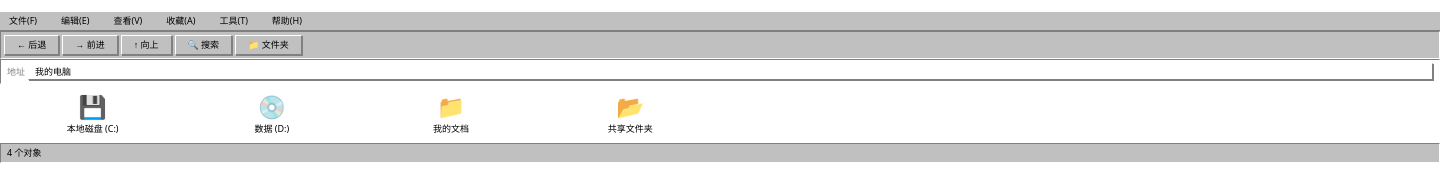
Scenario: MyComputer Component - Paint Files Integration › should navigate back from photos folder
Double-click the text "我的文档": (451,129) [433,123,469,134]
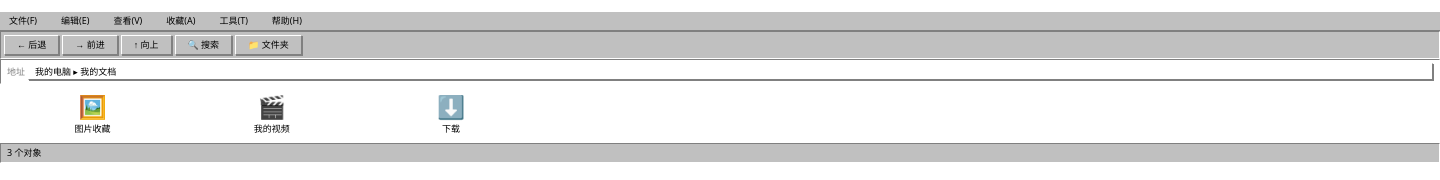
Result: the text "图片收藏" is shown
Double-click the text "图片收藏": (93,129) [75,123,111,134]
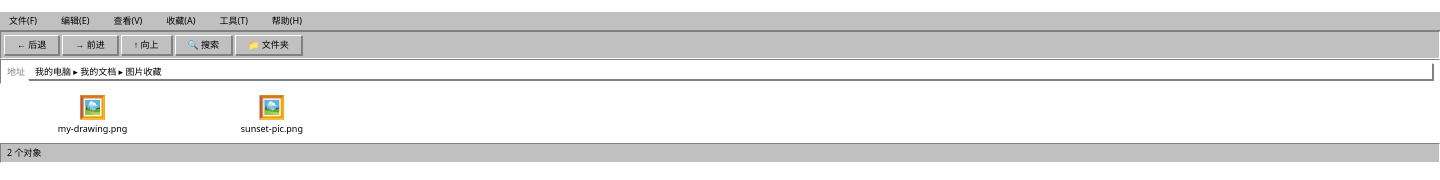
Result: the text "my-drawing.png" is shown at [58,123,127,134]
Click the button "← 后退": (32,45) [4,35,59,55]
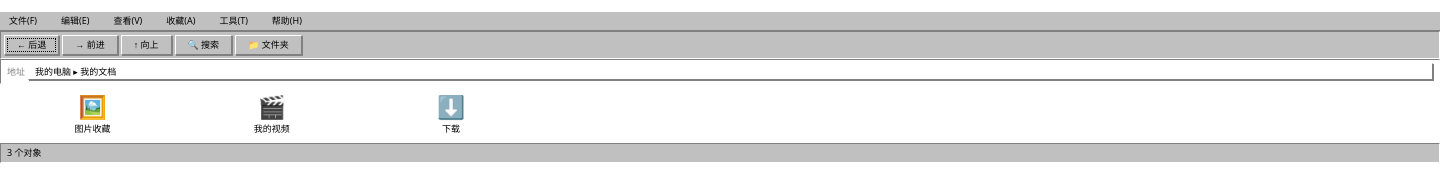
Result: the text "图片收藏" is shown at [75,123,111,134]
Result: the text "my-drawing.png" is gone
